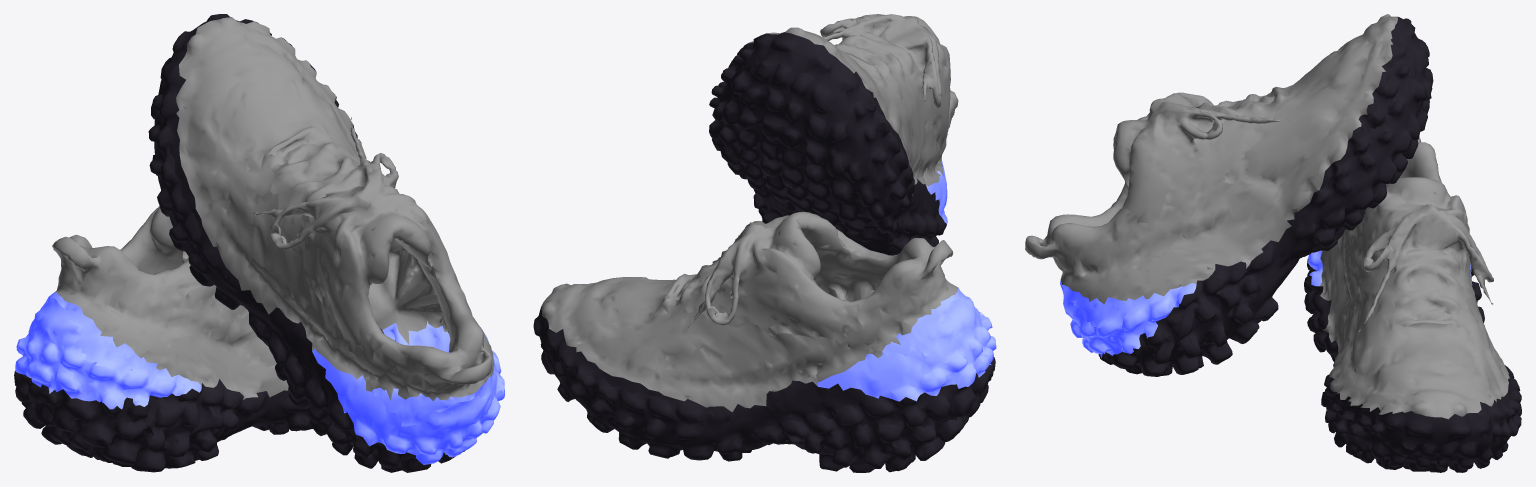
The model's file is calzado.glb.
The picture shows the model from 3 angles, left to right: view 1: azimuth 30°, elevation 25°; view 2: azimuth 150°, elevation 25°; view 3: azimuth 270°, elevation 25°; orthographic projection. The views are drawn at different scales.
Visible parts, largest first — view 1: altoX.002, altoX.001; view 2: altoX.001, altoX.002; view 3: altoX.002, altoX.001.
Boxes of the visible parts, left/top/right/bottom form: altoX.002: left=148, top=14, right=504, bottom=472; altoX.001: left=14, top=206, right=312, bottom=472; altoX.001: left=533, top=211, right=996, bottom=472; altoX.002: left=709, top=14, right=958, bottom=255; altoX.002: left=1025, top=14, right=1433, bottom=376; altoX.001: left=1304, top=137, right=1521, bottom=472.
Bounding box in the file's own units: 0.9107 × 0.8528 × 0.9786.
